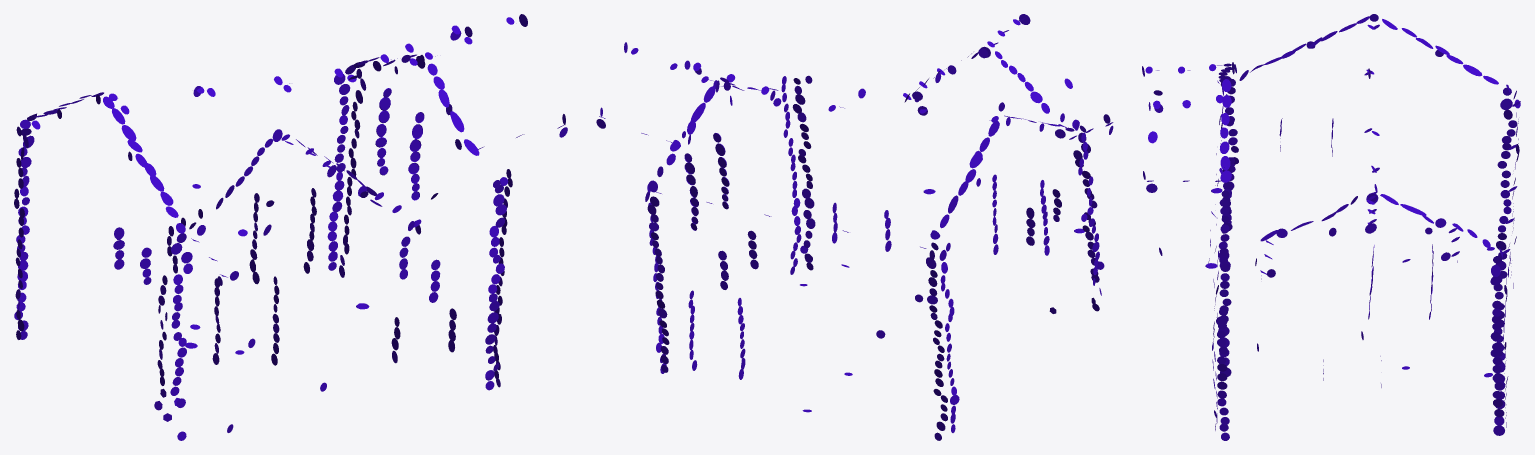
The model's file is MI_SmallLodge_LogPile012.fbx.
The picture shows the model from 3 angles, left to right: view 1: azimuth 30°, elevation 25°; view 2: azimuth 150°, elevation 25°; view 3: azimuth 270°, elevation 25°; orthographic projection. The views are drawn at different scales.
Visible parts, largest first — view 1: SM_ST_SmallLodge01.mo; view 2: SM_ST_SmallLodge01.mo; view 3: SM_ST_SmallLodge01.mo.
Part boxes in pixels (x1,y1,x2,y2): SM_ST_SmallLodge01.mo: (14, 14, 567, 440); SM_ST_SmallLodge01.mo: (596, 14, 1113, 440); SM_ST_SmallLodge01.mo: (1142, 14, 1520, 440).
Bounding box in the file's own units: 1373 × 1098 × 929.
